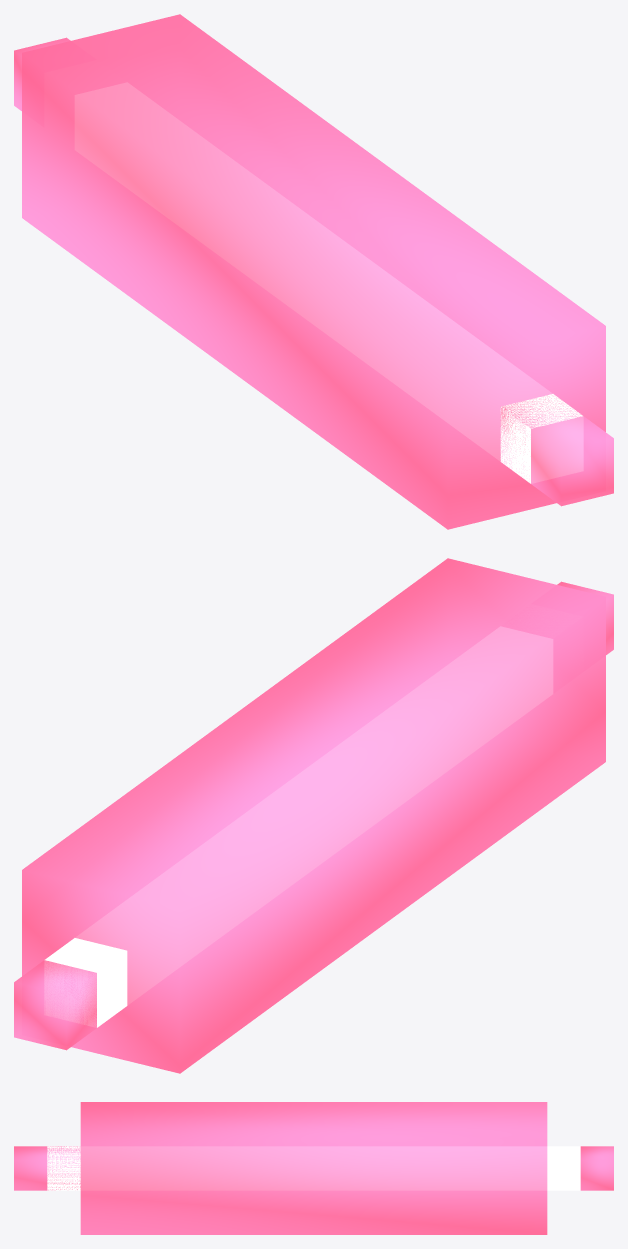
The model's file is laser-bolt.glb.
3 views of the same model, one above another, from view 1: azimuth 30°, elevation 25°; view 2: azimuth 150°, elevation 25°; view 3: azimuth 270°, elevation 25° (orthographic). The views are drawn at different scales.
Parts seen in each view (by area): view 1: layer.glow, layer.core; view 2: layer.glow, layer.core; view 3: layer.glow, layer.core.
Part boxes in pixels (x1,y1,x2,y2): layer.glow: (14,14,613,529); layer.core: (75,83,582,483); layer.glow: (14,558,613,1073); layer.core: (44,627,552,1027); layer.glow: (14,1102,613,1234); layer.core: (47,1146,580,1190).
Size of the model in its own units: 0.0938 by 0.0938 by 0.5625.
